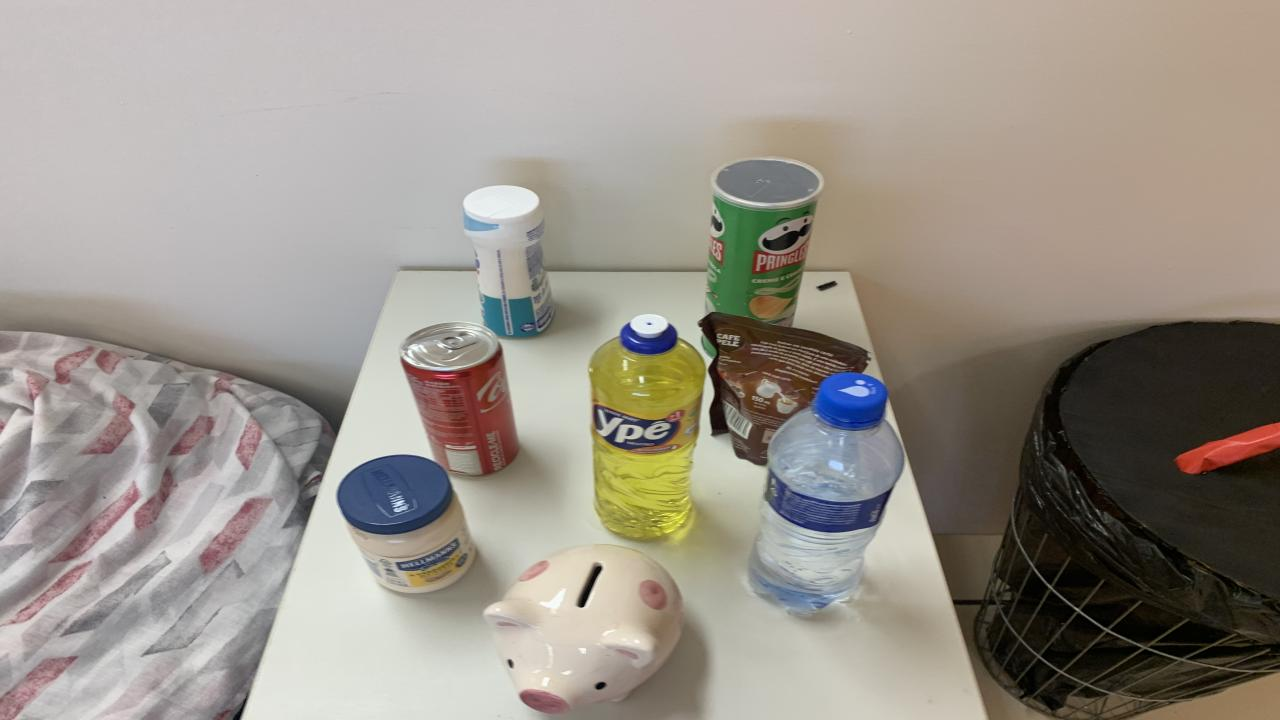Cleaner-Cleanup_Items: (462, 186, 555, 338)
Coffee-Pantry_Items: (700, 313, 870, 465)
Coke-Drinks: (400, 322, 520, 476)
Detergent-Cleanup_Items: (588, 315, 705, 538)
Mayonnaise-Pantry_Items: (338, 456, 478, 592)
Pig_Safe-Miscellaneous: (482, 544, 682, 714)
Pringles-Snacks: (705, 156, 825, 326)
Water_Bottle-Drinks: (750, 371, 905, 613)
